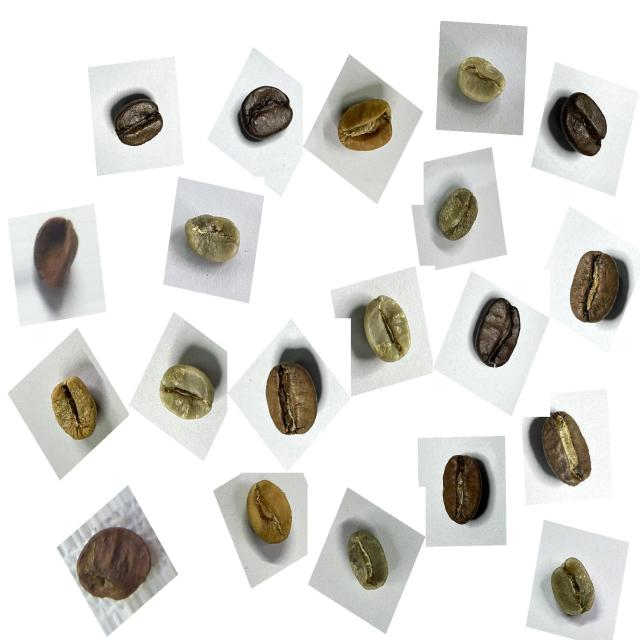bad: (70, 514, 164, 614), (24, 208, 92, 301)
dark: (546, 82, 620, 173), (463, 289, 532, 382), (230, 74, 303, 156), (104, 83, 172, 161)
green: (149, 340, 224, 434), (346, 285, 420, 380), (331, 520, 402, 608), (173, 201, 249, 281), (539, 548, 608, 630), (447, 43, 515, 120), (427, 178, 488, 256)
light: (250, 342, 332, 449), (323, 82, 405, 173), (34, 361, 109, 454), (233, 470, 303, 558)
medium: (557, 242, 637, 339), (427, 446, 497, 538), (540, 403, 602, 499)
